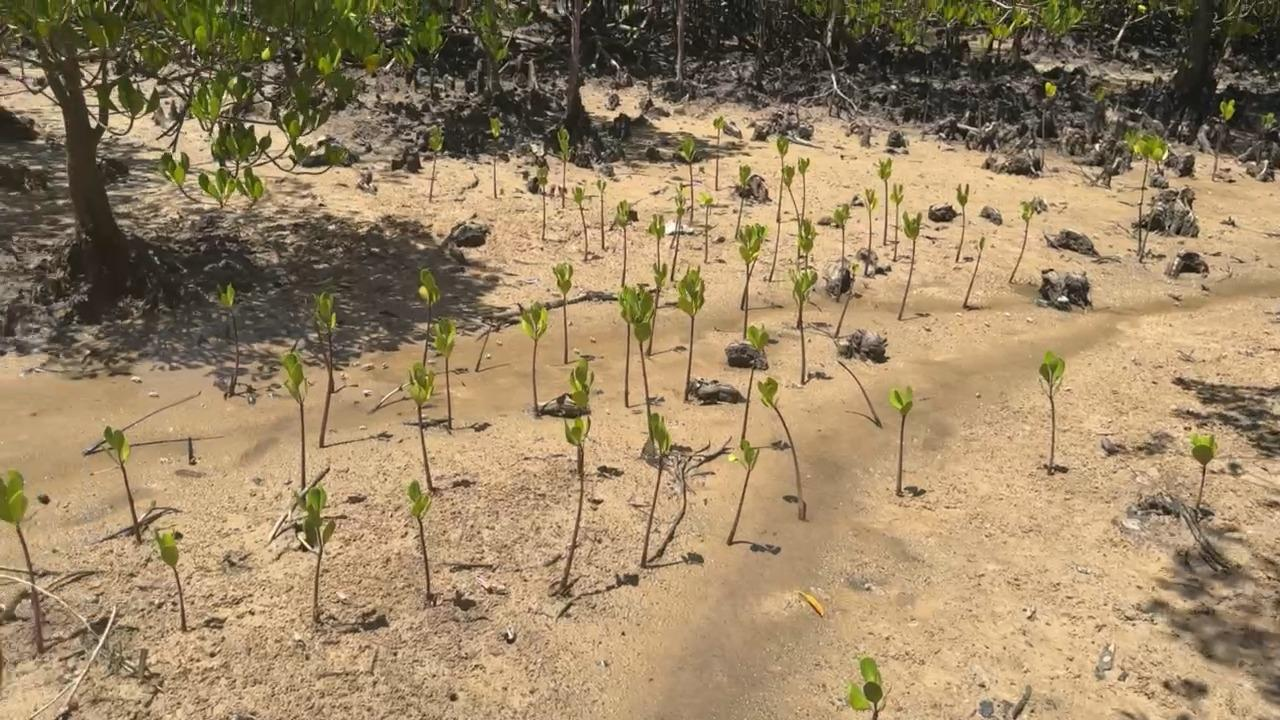Tree: (0, 469, 44, 652), (757, 377, 807, 519), (291, 487, 336, 607), (1126, 130, 1169, 253), (561, 416, 590, 587), (101, 426, 142, 540), (641, 413, 671, 568), (627, 284, 656, 441), (677, 264, 705, 401), (407, 362, 435, 488), (740, 323, 768, 448), (727, 438, 760, 544), (154, 529, 188, 631), (788, 268, 818, 383), (283, 356, 308, 490), (519, 300, 548, 412), (317, 295, 337, 446), (569, 358, 595, 473), (837, 361, 882, 427), (215, 281, 240, 397), (888, 385, 914, 495), (407, 479, 432, 592), (847, 656, 891, 720), (736, 224, 760, 337), (898, 211, 923, 319), (1038, 351, 1064, 451), (309, 293, 335, 392), (619, 286, 640, 407), (435, 317, 456, 427), (739, 224, 766, 308), (418, 267, 440, 366), (1009, 201, 1035, 282), (552, 262, 573, 362), (645, 264, 667, 358), (1190, 434, 1216, 509), (834, 263, 860, 336), (1213, 98, 1235, 181), (782, 166, 801, 258), (678, 137, 697, 225), (872, 157, 891, 243), (962, 237, 985, 307), (615, 200, 631, 288), (1041, 82, 1057, 164), (696, 188, 713, 263), (670, 196, 685, 280), (1138, 202, 1159, 262), (734, 164, 750, 239), (572, 186, 588, 261), (889, 182, 904, 261), (647, 212, 666, 272), (776, 136, 789, 223), (956, 183, 970, 261), (427, 125, 441, 203), (798, 219, 818, 273), (864, 189, 877, 272), (556, 125, 569, 206), (833, 202, 849, 266), (797, 156, 811, 221), (475, 324, 494, 371), (536, 166, 548, 239), (1259, 114, 1276, 163), (490, 117, 499, 199), (670, 184, 682, 245), (769, 220, 780, 282), (597, 179, 606, 250), (713, 116, 721, 188)
